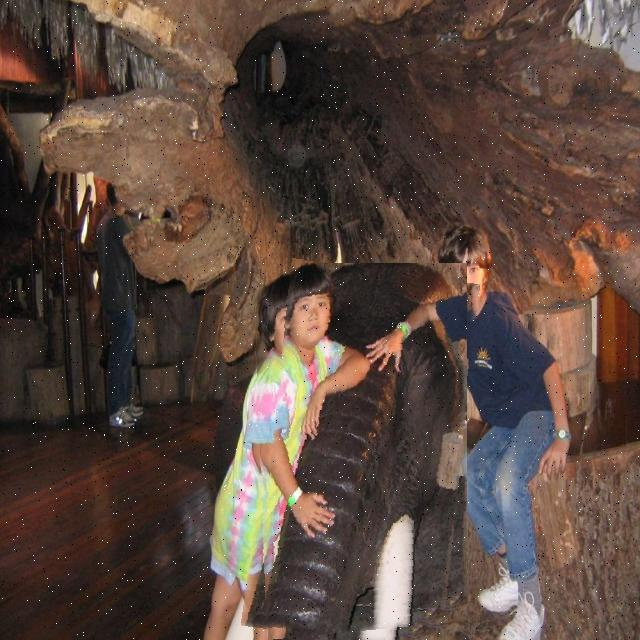elephant: (253, 263, 467, 640)
